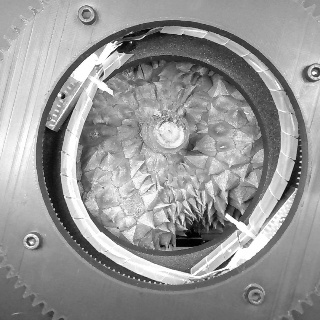base: (146, 110, 190, 155)
end: (156, 120, 184, 148)
